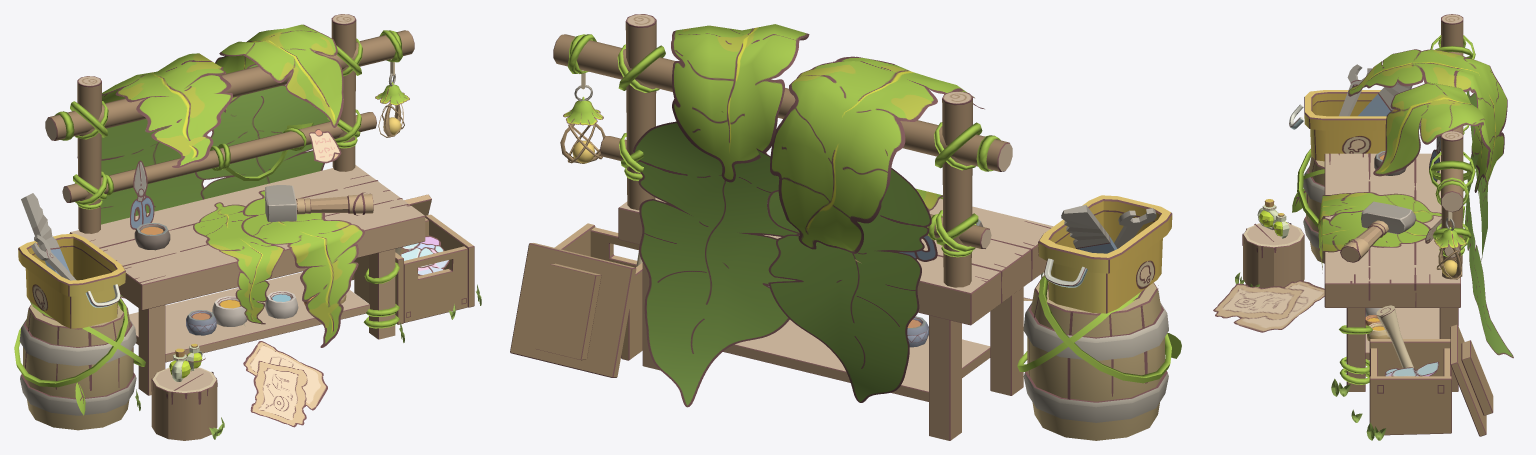
File: Mesh_Home_RF_Workbench_SM.fbx
The picture shows the model from 3 angles, left to right: view 1: azimuth 30°, elevation 25°; view 2: azimuth 150°, elevation 25°; view 3: azimuth 270°, elevation 25°; orthographic projection. The views are drawn at different scales.
Parts seen in each view (by area): view 1: Mesh_Home_RF_Workbench, Mesh_Home_RF_Workbench_P; view 2: Mesh_Home_RF_Workbench, Mesh_Home_RF_Workbench_P; view 3: Mesh_Home_RF_Workbench, Mesh_Home_RF_Workbench_P.
Boxes of the visible parts, x1,y1,x2,y2 form: Mesh_Home_RF_Workbench: (14,14,481,440); Mesh_Home_RF_Workbench_P: (32,24,449,427); Mesh_Home_RF_Workbench: (510,14,1181,440); Mesh_Home_RF_Workbench_P: (563,24,1155,407); Mesh_Home_RF_Workbench: (1235,14,1493,440); Mesh_Home_RF_Workbench_P: (1213,49,1513,376).
Bounding box in the file's own units: 303 × 177 × 186.
